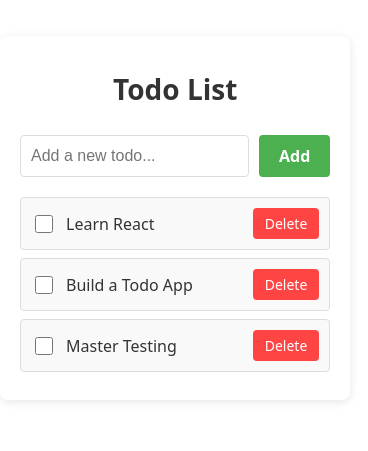
Scenario: TodoList Component › Adding Todos › adds a new todo when form is submitted
In the field with test id "todo-input": coordinates (134, 156) [20,135,249,177], type "Buy groceries"
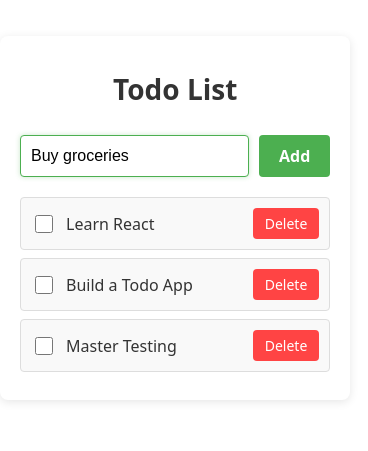
Click the button with test id "add-button": coordinates (295, 156) [259,135,330,177]
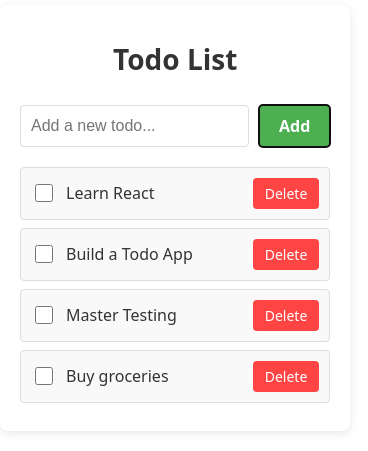
Expected: the text "Buy groceries" is shown, [66,365,168,387]
